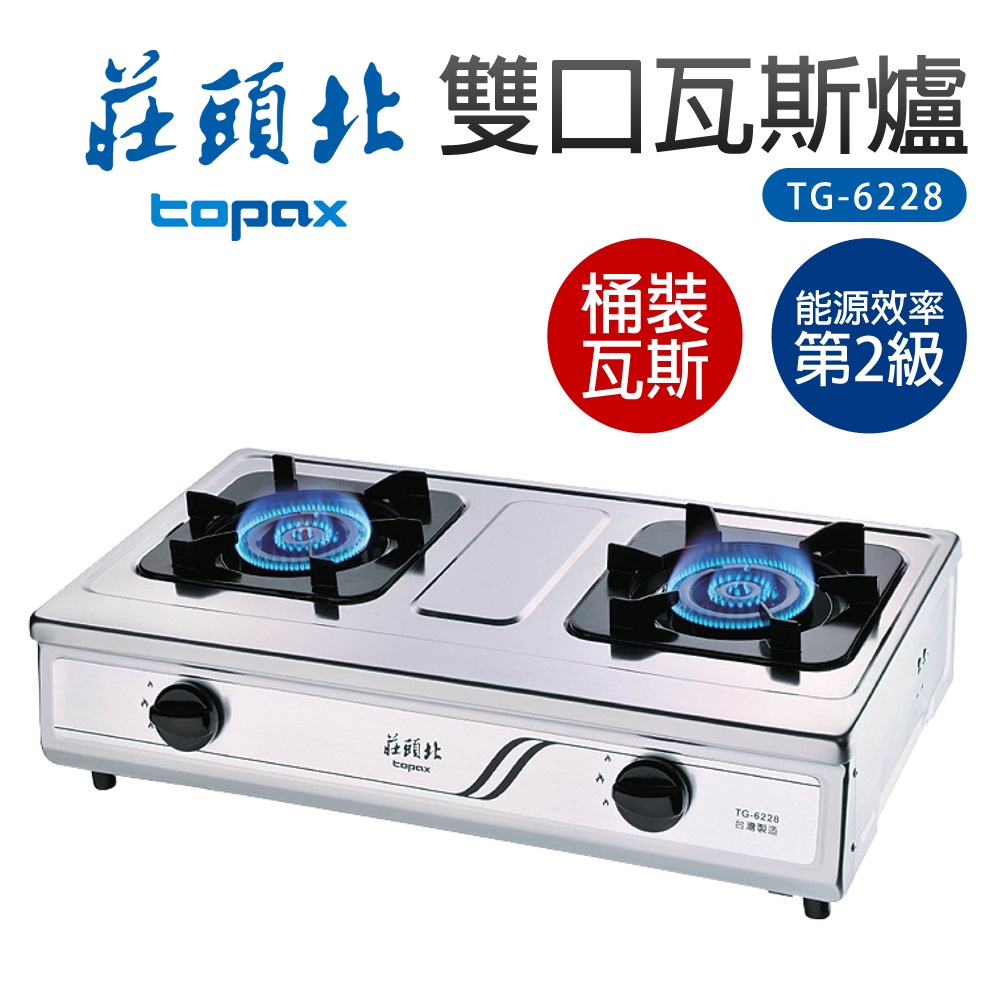gasoven: (24, 433, 974, 931)
